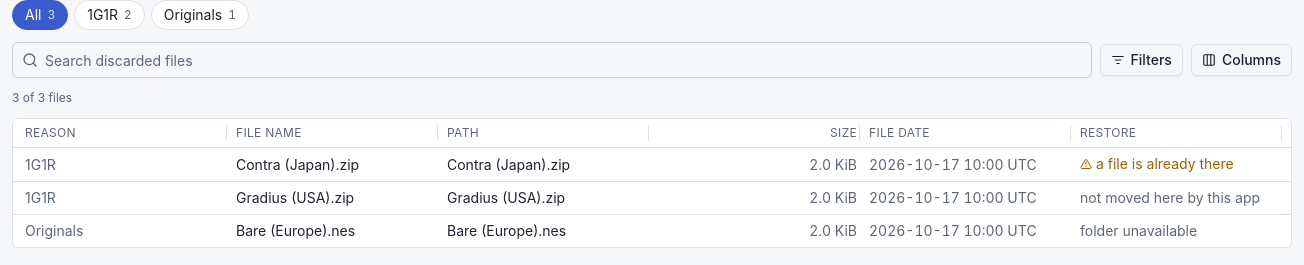
a quick view per reason narrows the list
Click the radio button "Originals".
click(200, 15)  # box [151, 0, 249, 30]
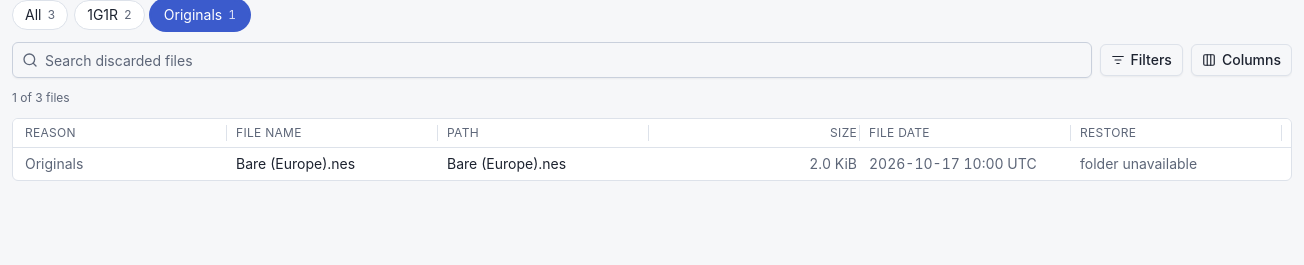
Type "zzz" into the field named "Search files".
click(552, 60); type("zzz")  # box [12, 42, 1092, 78]
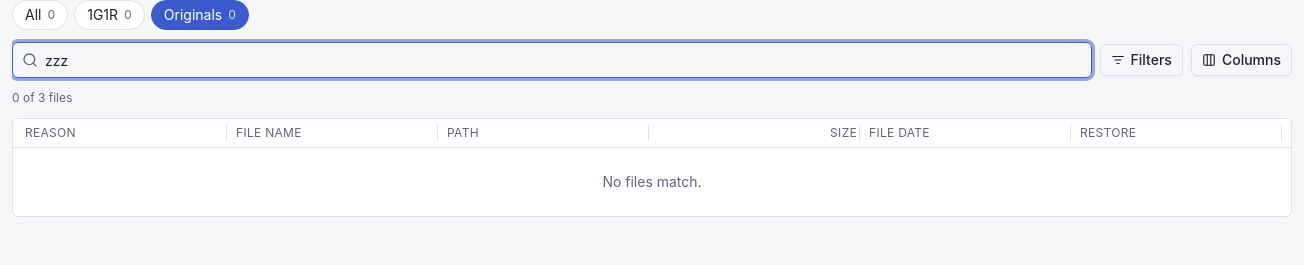
Expected: the text "No files match." is shown, [602, 173, 702, 190]
